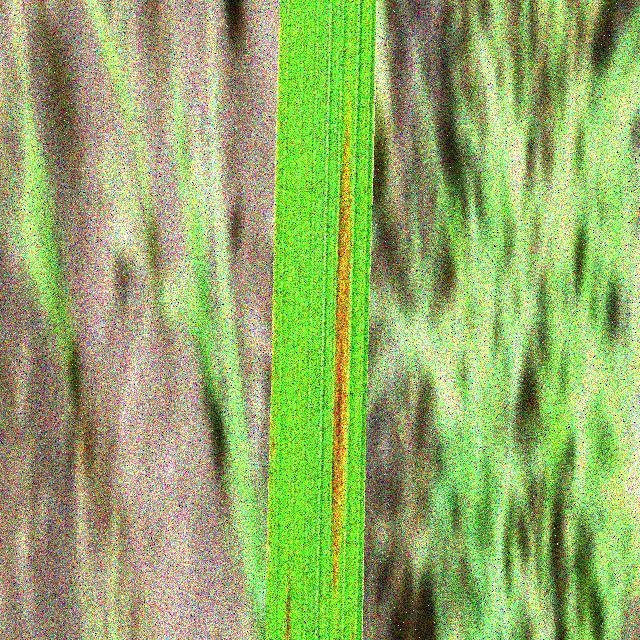NBS: (332, 122, 351, 586), (285, 581, 291, 640), (351, 632, 355, 640)
